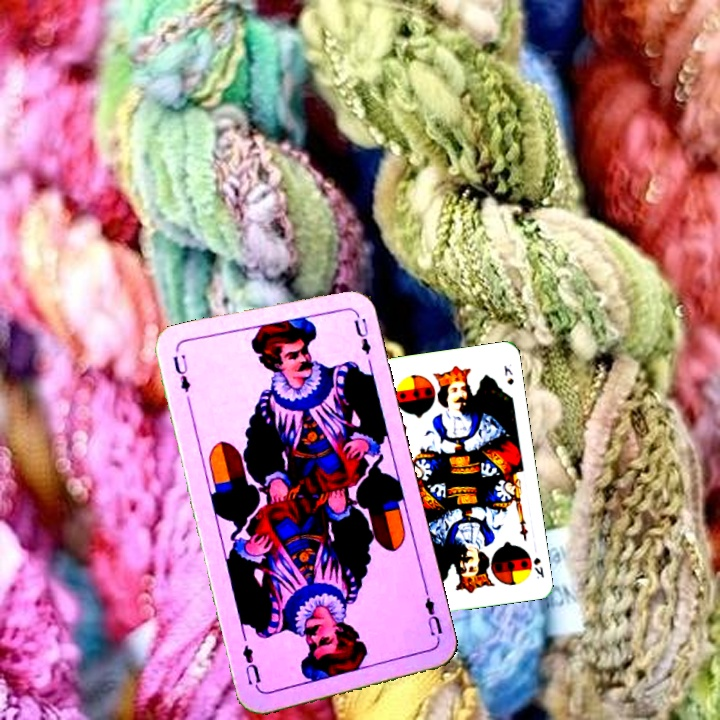EU: (420, 587, 445, 646), (169, 350, 193, 395)
SK: (530, 554, 547, 581)
